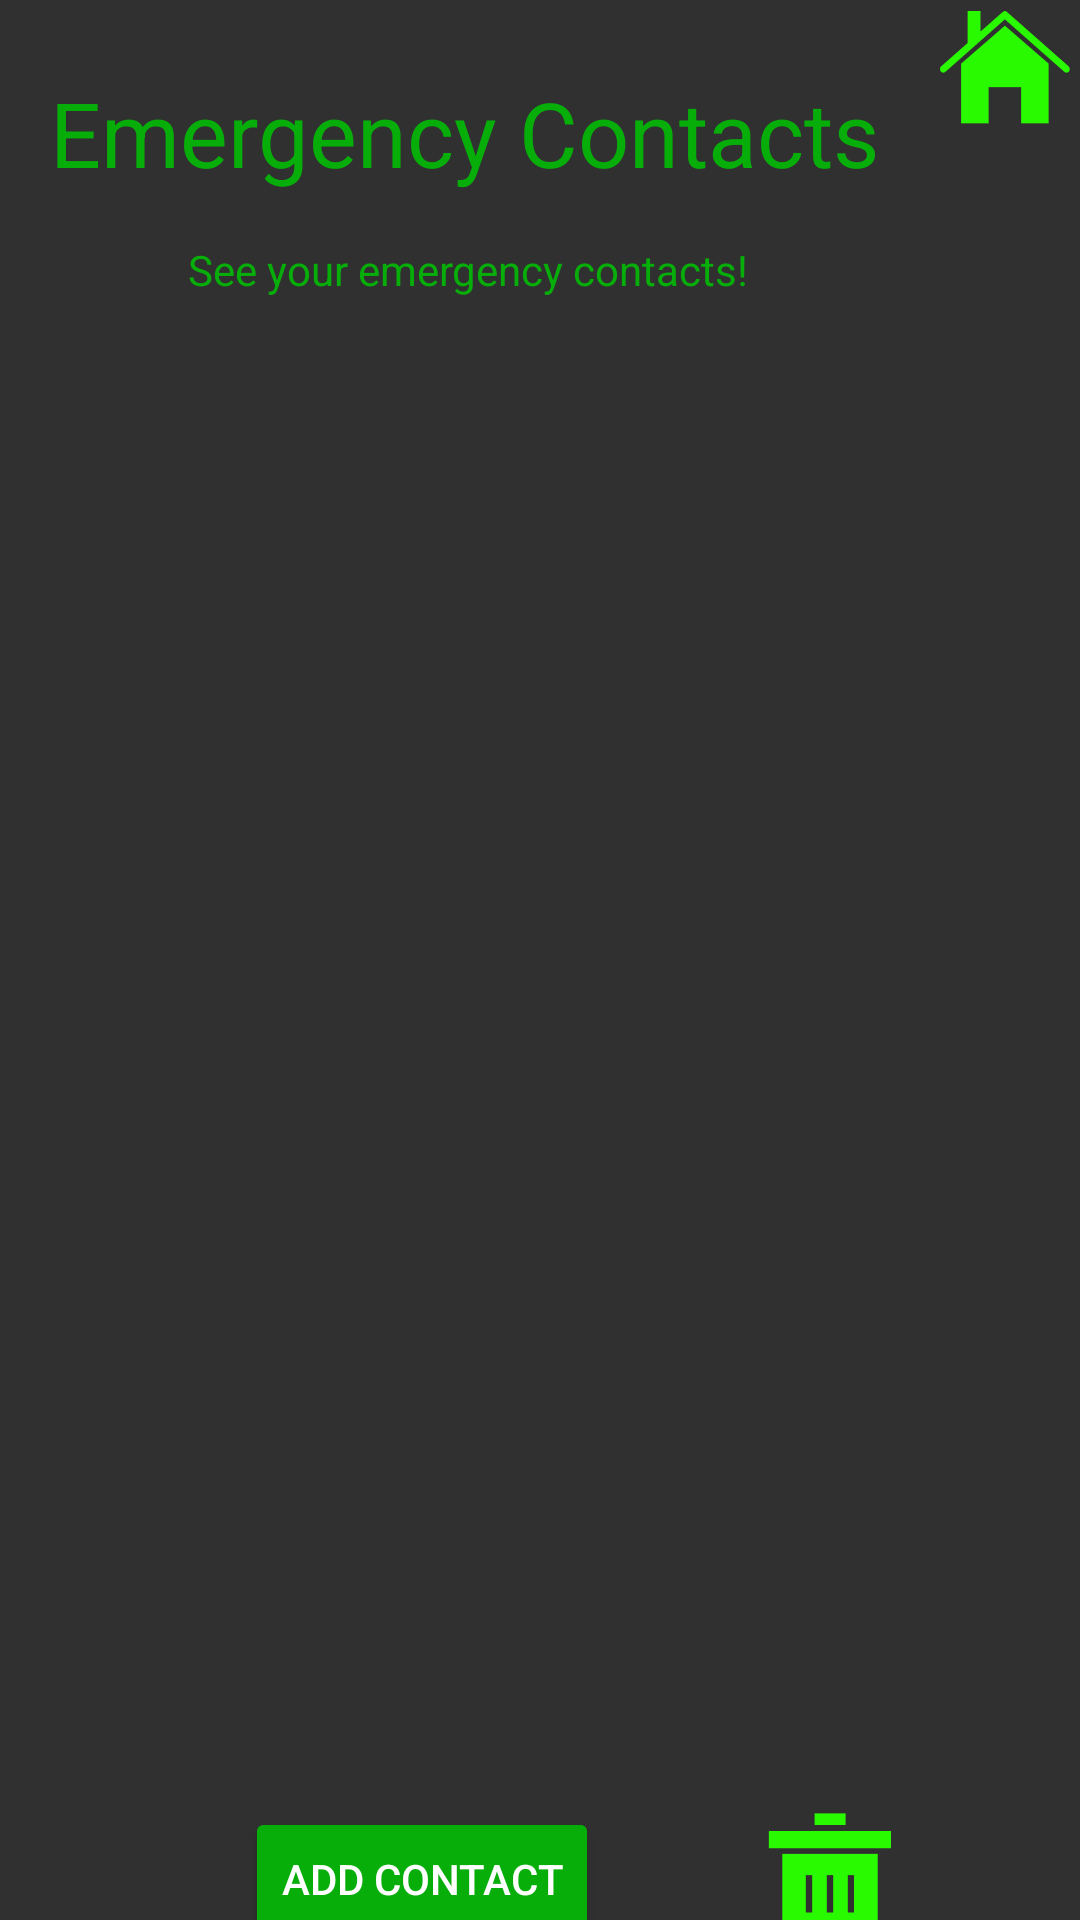

Where icons sit on this 1080 x 1920 app screen, as bbox(x1, y1, x2, y2):
home: bbox(940, 11, 1070, 124)
